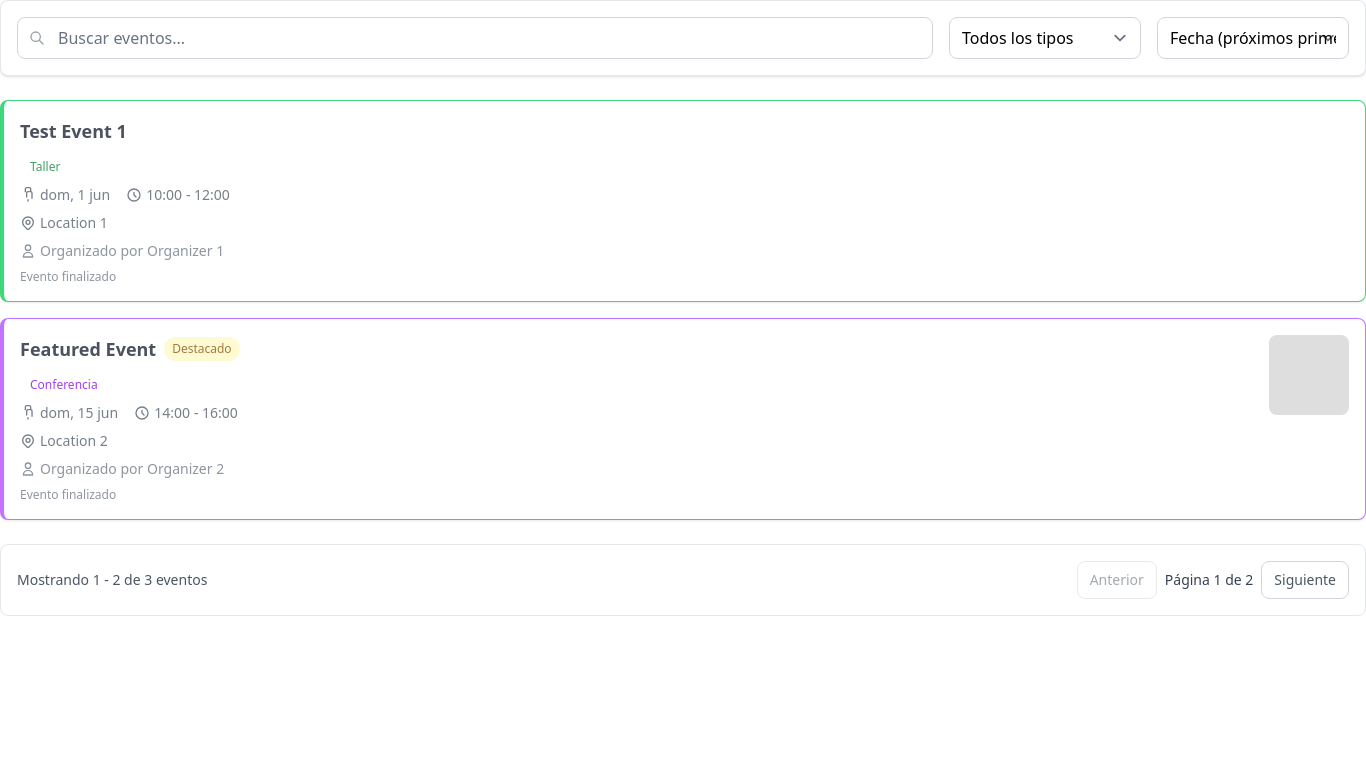
EventList › Pagination › should navigate to previous page
This screenshot has width=1366, height=768.
# Go to page 2 first
What coordinates should you click on to do the following:
click the button "Siguiente"
I would click on:
 (1305, 580)
Its box is [1261,561,1349,599].
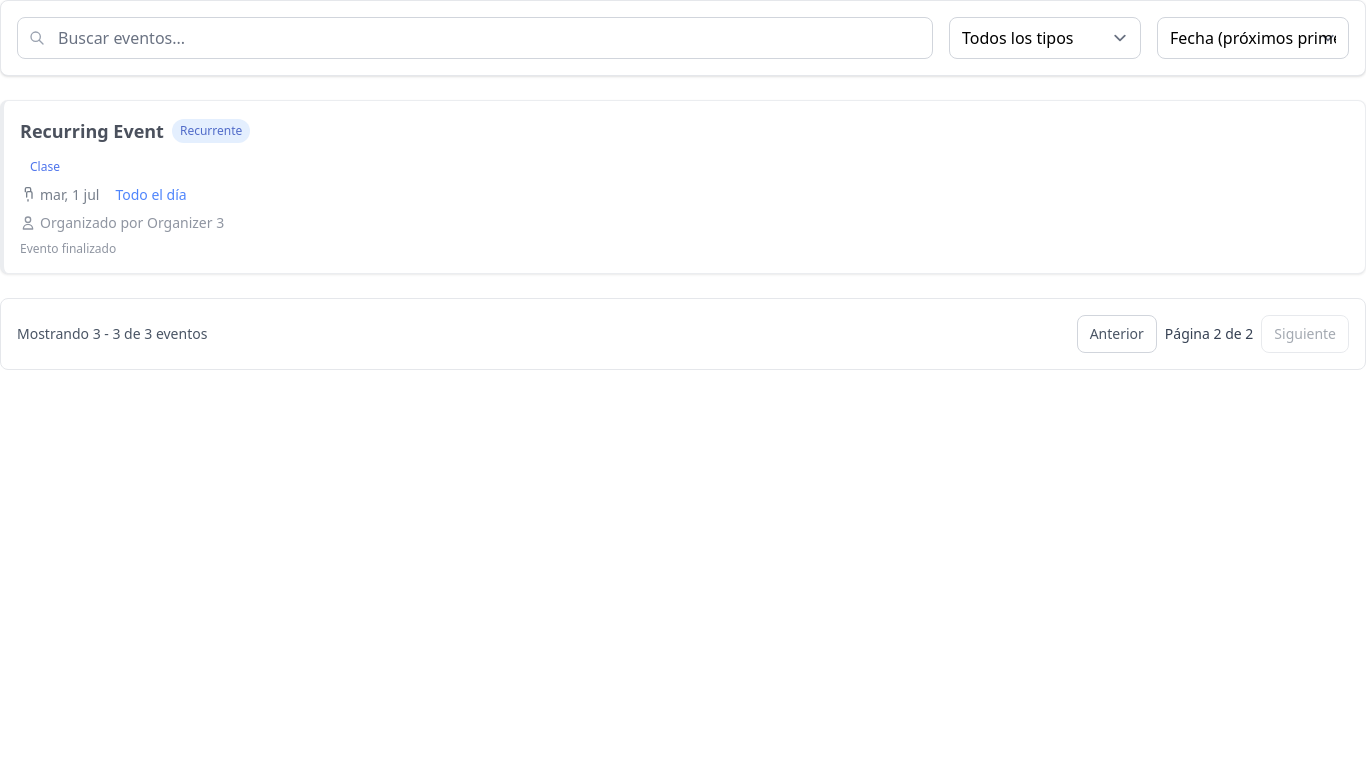
expect the text "Página 2 de 2" is shown: met, box [1165,324,1253,344]
# Then go back
What coordinates should you click on to do the following:
click the button "Anterior"
I would click on:
 (1117, 334)
Its box is [1077,315,1157,353].
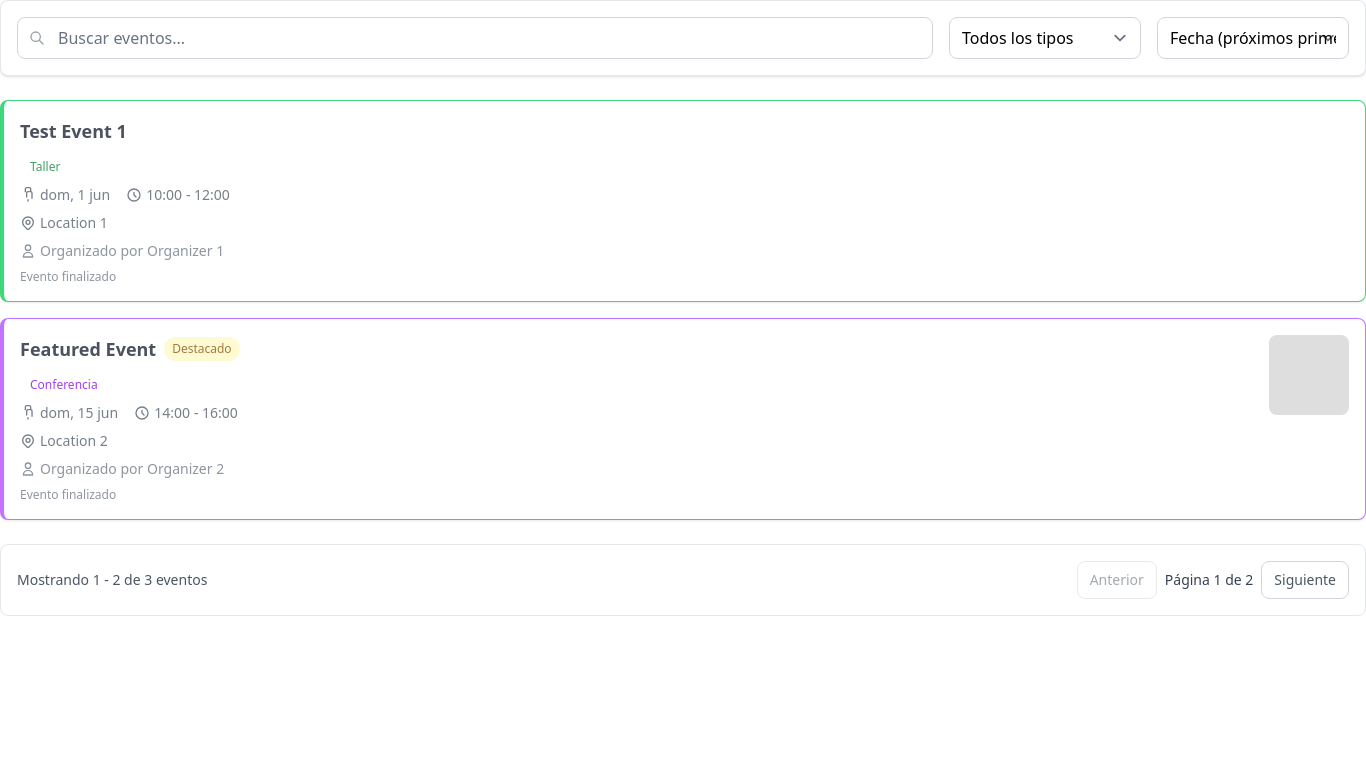
expect the text "Página 1 de 2" is shown: met, box [1165,570,1253,590]
